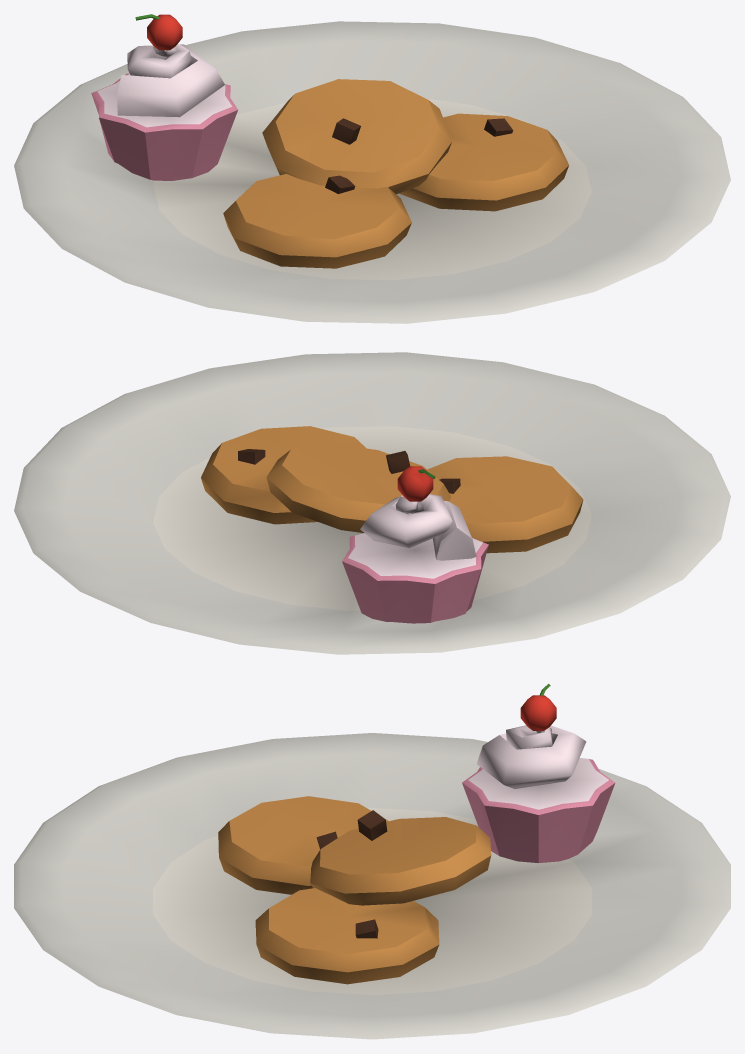
The model's file is treatPlate.glb.
3 views of the same model, one above another, from view 1: azimuth 30°, elevation 25°; view 2: azimuth 150°, elevation 25°; view 3: azimuth 270°, elevation 25° (orthographic).
Parts seen in each view (by area): view 1: treatPlate; view 2: treatPlate; view 3: treatPlate.
Part boxes in pixels (left/top/right/bottom): treatPlate: left=14, top=14, right=730, bottom=323; treatPlate: left=14, top=352, right=730, bottom=654; treatPlate: left=14, top=683, right=730, bottom=1039.
Bounding box in the file's own units: 0.2876 × 0.073 × 0.2847.
